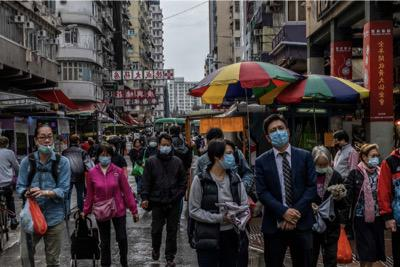mask_weared_incorrect: (36, 132, 54, 153)
with_mask: (268, 124, 288, 148), (220, 149, 235, 171), (366, 152, 379, 168), (159, 142, 172, 157), (315, 161, 329, 174), (97, 153, 111, 166), (334, 140, 341, 150), (149, 140, 156, 148), (87, 139, 93, 145)
without_mask: (134, 141, 140, 148)
